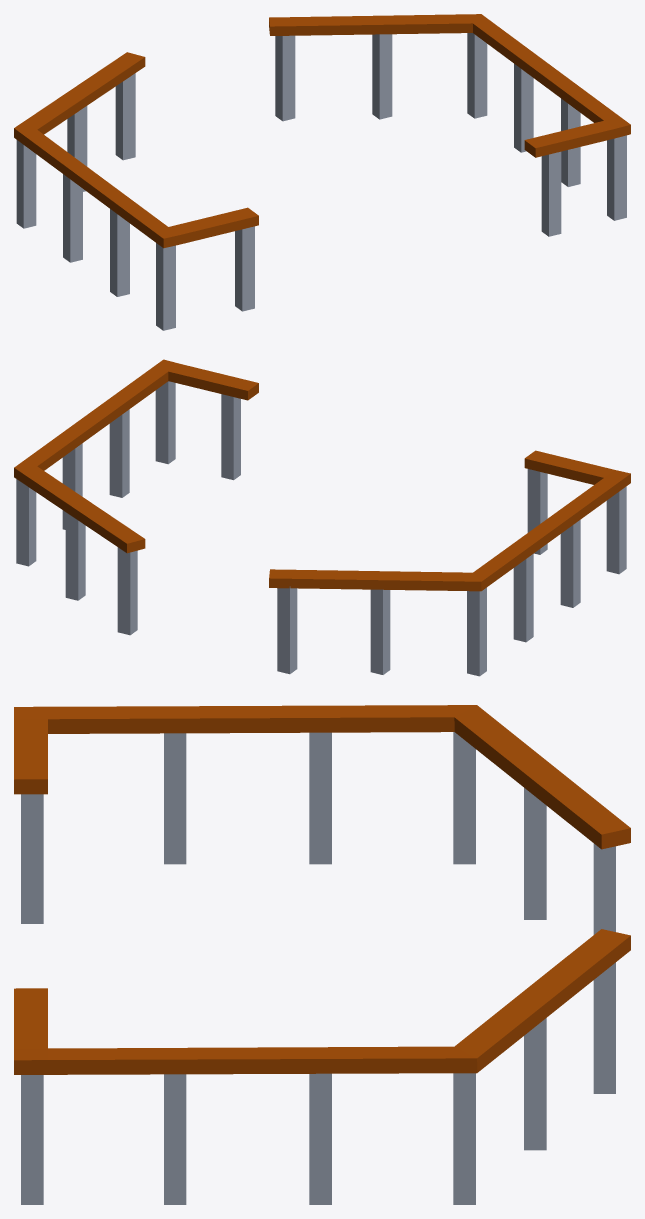
File: Railing 4th.fbx
The picture shows the model from 3 angles, top to bottom: view 1: azimuth 30°, elevation 25°; view 2: azimuth 150°, elevation 25°; view 3: azimuth 270°, elevation 25°; orthographic projection. The views are drawn at different scales.
Parts seen in each view (by area): view 1: Railings.007; view 2: Railings.007; view 3: Railings.007.
Part boxes in pixels (left/top/right/bottom): Railings.007: left=14, top=14, right=630, bottom=330; Railings.007: left=14, top=359, right=630, bottom=676; Railings.007: left=14, top=705, right=630, bottom=1204.
Bounding box in the file's own units: 1004 × 196 × 741.
